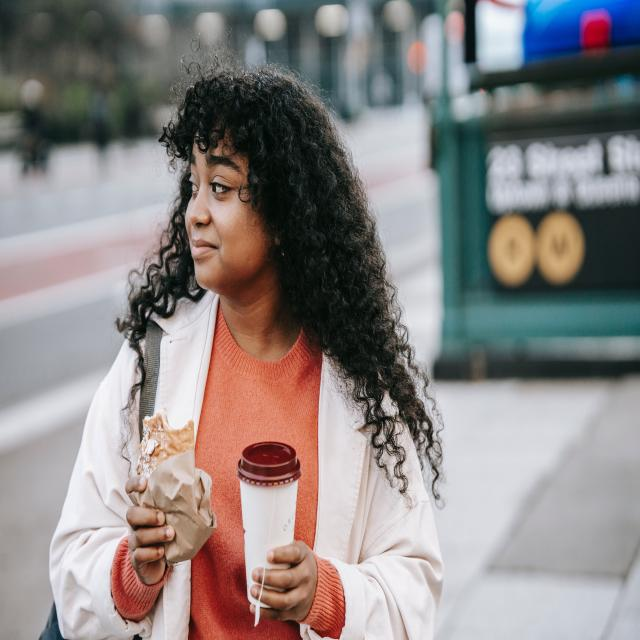cup: (238, 439, 304, 618)
